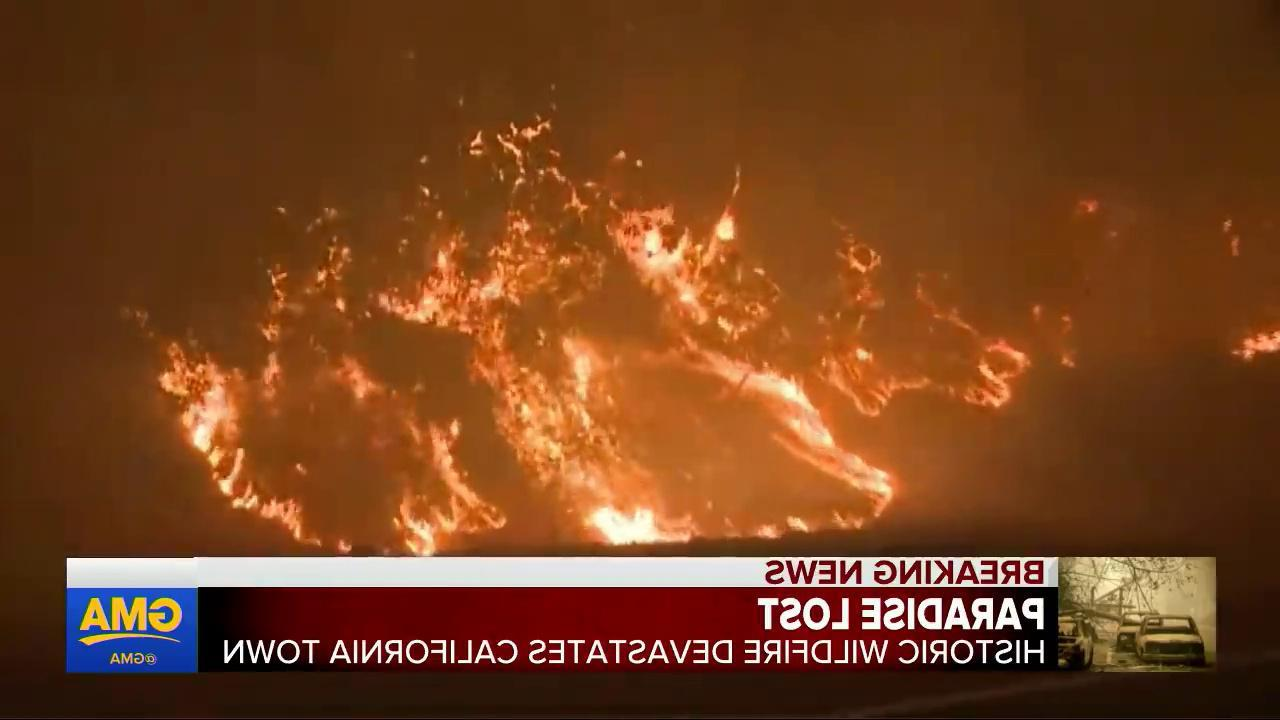Fire: (162, 198, 1004, 544), (407, 103, 648, 195), (1225, 324, 1279, 362)
